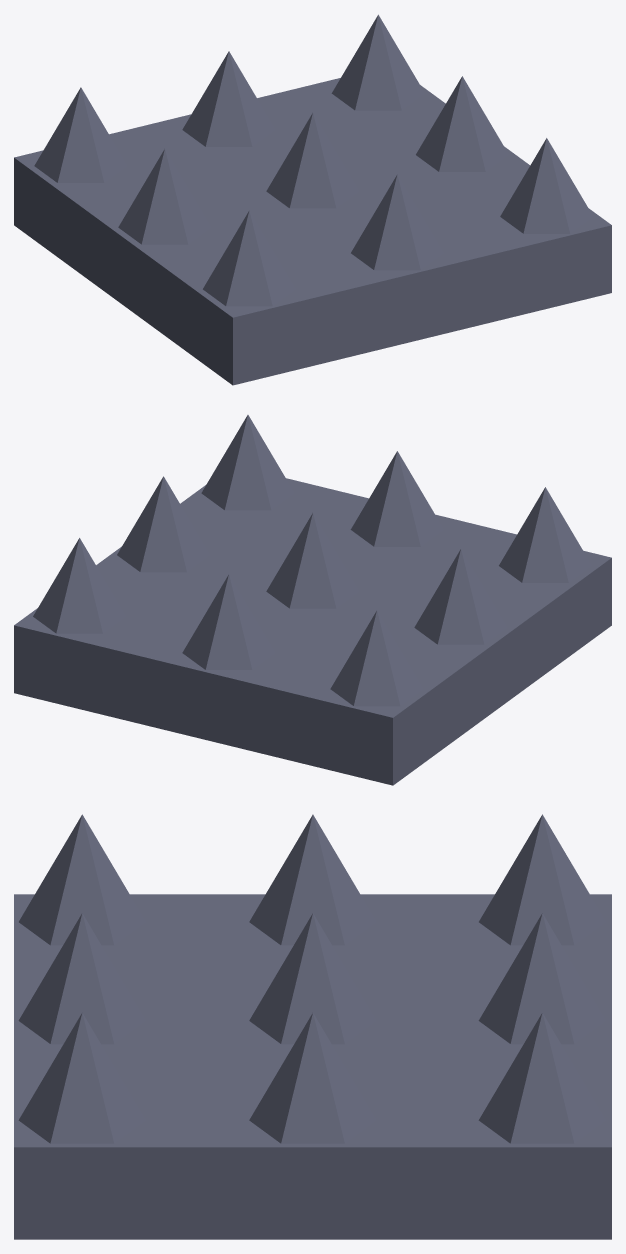
Rendered from trap_spike.fbx.
3 renders of one model, top to bottom at view 1: azimuth 30°, elevation 25°; view 2: azimuth 150°, elevation 25°; view 3: azimuth 270°, elevation 25°, orthographic. The views are drawn at different scales.
Visible parts, largest first — view 1: Cube, Cylinder.001, Cylinder, Cylinder.007, Cylinder.005, Cylinder.006, Cylinder.004, Cylinder.002, Cylinder.003, Cylinder.008; view 2: Cube, Cylinder.003, Cylinder.008, Cylinder.004, Cylinder, Cylinder.005, Cylinder.006, Cylinder.001, Cylinder.007, Cylinder.002; view 3: Cube, Cylinder.003, Cylinder.004, Cylinder.005, Cylinder.001, Cylinder, Cylinder.002, Cylinder.006, Cylinder.008, Cylinder.007.
Part boxes in pixels (left/top/right/bottom): Cube: left=14, top=78, right=611, bottom=385; Cylinder.001: left=351, top=174, right=443, bottom=270; Cylinder: left=266, top=113, right=359, bottom=208; Cylinder.007: left=203, top=210, right=295, bottom=306; Cylinder.005: left=331, top=14, right=424, bottom=110; Cylinder.006: left=118, top=149, right=211, bottom=244; Cylinder.004: left=500, top=138, right=593, bottom=233; Cylinder.002: left=182, top=51, right=275, bottom=146; Cylinder.003: left=416, top=76, right=508, bottom=171; Cylinder.008: left=34, top=87, right=127, bottom=182; Cube: left=14, top=478, right=611, bottom=785; Cylinder.003: left=117, top=476, right=209, bottom=572; Cylinder.008: left=330, top=610, right=423, bottom=706; Cylinder.004: left=201, top=415, right=294, bottom=510; Cylinder: left=266, top=513, right=359, bottom=608; Cylinder.005: left=33, top=538, right=125, bottom=633; Cylinder.006: left=414, top=549, right=507, bottom=644; Cylinder.001: left=350, top=451, right=443, bottom=546; Cylinder.007: left=499, top=487, right=591, bottom=582; Cylinder.002: left=182, top=574, right=275, bottom=669; Cube: left=14, top=894, right=611, bottom=1239; Cylinder.003: left=249, top=1013, right=376, bottom=1143; Cylinder.004: left=18, top=1012, right=145, bottom=1143; Cylinder.005: left=478, top=1013, right=606, bottom=1143; Cylinder.001: left=18, top=913, right=145, bottom=1044; Cylinder: left=249, top=913, right=376, bottom=1044; Cylinder.002: left=478, top=913, right=605, bottom=1044; Cylinder.006: left=249, top=814, right=376, bottom=945; Cylinder.008: left=479, top=814, right=605, bottom=945; Cylinder.007: left=19, top=814, right=145, bottom=945.
Size of the model in its own units: 286 by 106 by 286.
